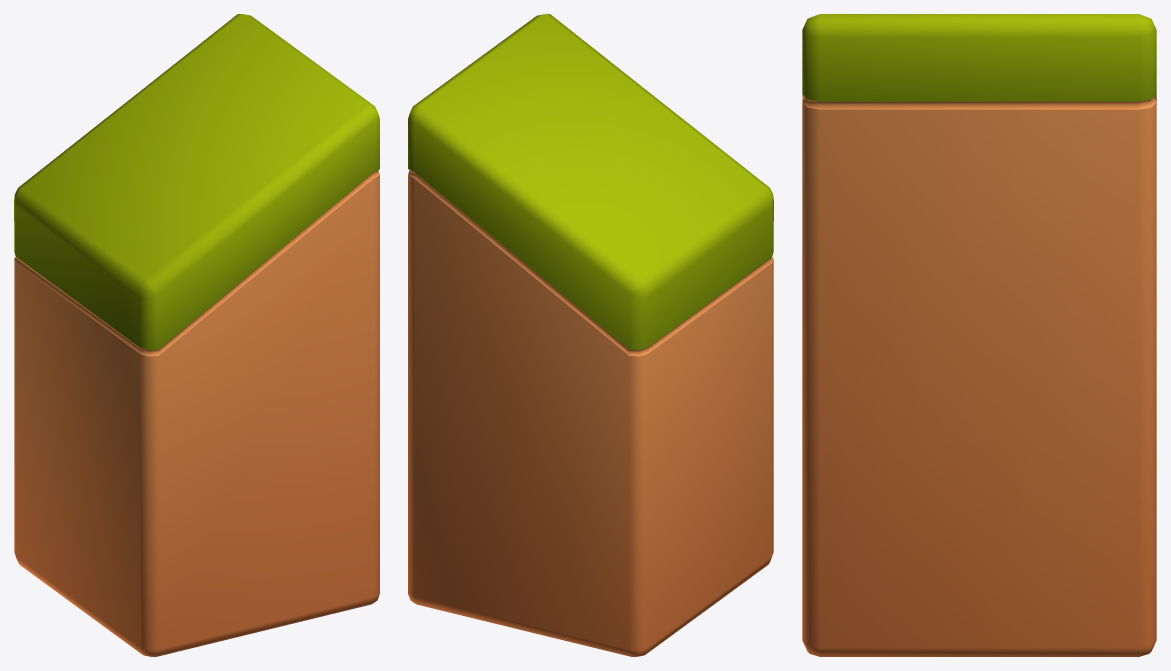
File: 3D_Tile_Ground_01x02.fbx
3 renders of one model, left to right at view 1: azimuth 30°, elevation 25°; view 2: azimuth 150°, elevation 25°; view 3: azimuth 270°, elevation 25°, orthographic. The views are drawn at different scales.
Parts seen in each view (by area): view 1: 3D_Tile_Ground_01x02; view 2: 3D_Tile_Ground_01x02; view 3: 3D_Tile_Ground_01x02.
Boxes of the visible parts, x1=… form: 3D_Tile_Ground_01x02: x1=14, y1=14, x2=379, y2=656; 3D_Tile_Ground_01x02: x1=408, y1=14, x2=773, y2=656; 3D_Tile_Ground_01x02: x1=802, y1=14, x2=1156, y2=656.
Size of the model in its own units: 200 by 400 by 200.
